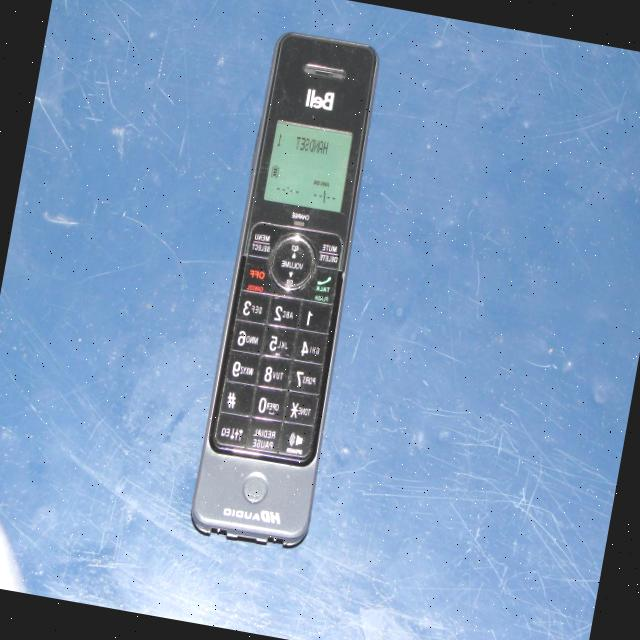Phone: (187, 26, 393, 552)
